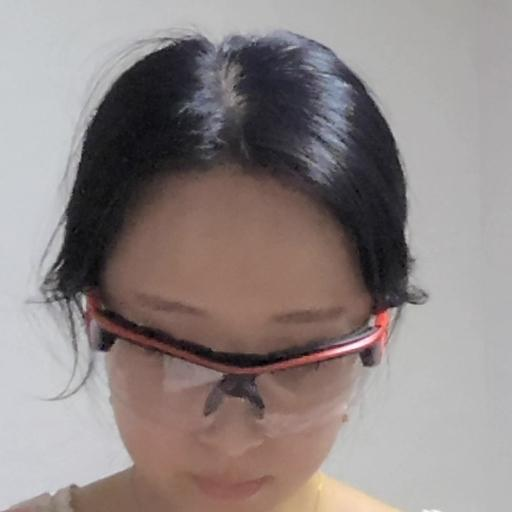glasses: (34, 34, 428, 512)
